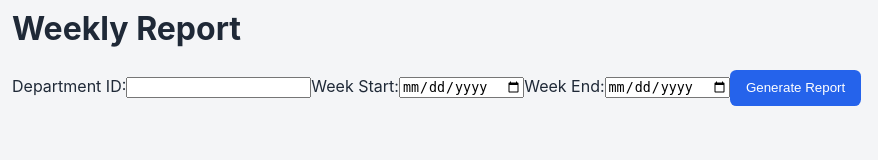
Test: WeeklyReportPage › shows an error when report creation fails
Type "department-123" into the field labelled "Department ID:".
click(219, 88); type("department-123")  # box [126,77,311,98]
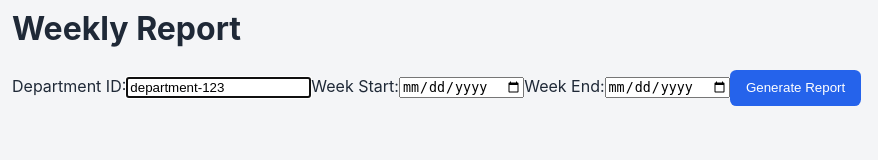
Type "2026-08-02" into the date field labelled "Week Start:".
click(462, 88); type("2026-08-02")  # box [399,77,524,98]
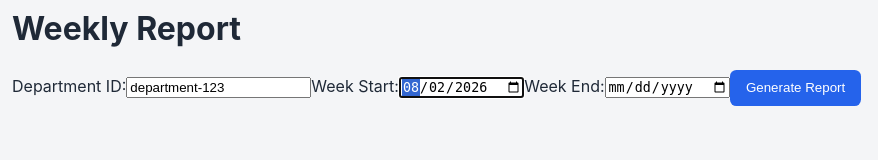
Type "2026-08-08" into the date field labelled "Week End:".
click(667, 88); type("2026-08-08")  # box [605,77,730,98]
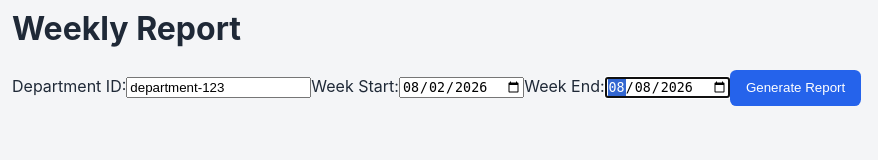
Click the button "Generate Report".
click(796, 88)  # box [730,70,861,106]
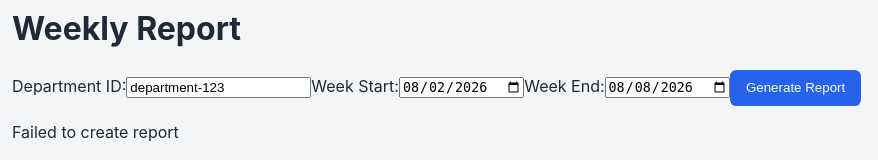
expect the text "Failed to create report" is shown: met, box [12,122,179,142]
